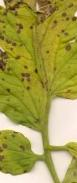Tomato Septoria leaf spot: (0, 0, 77, 128), (0, 119, 40, 182)
